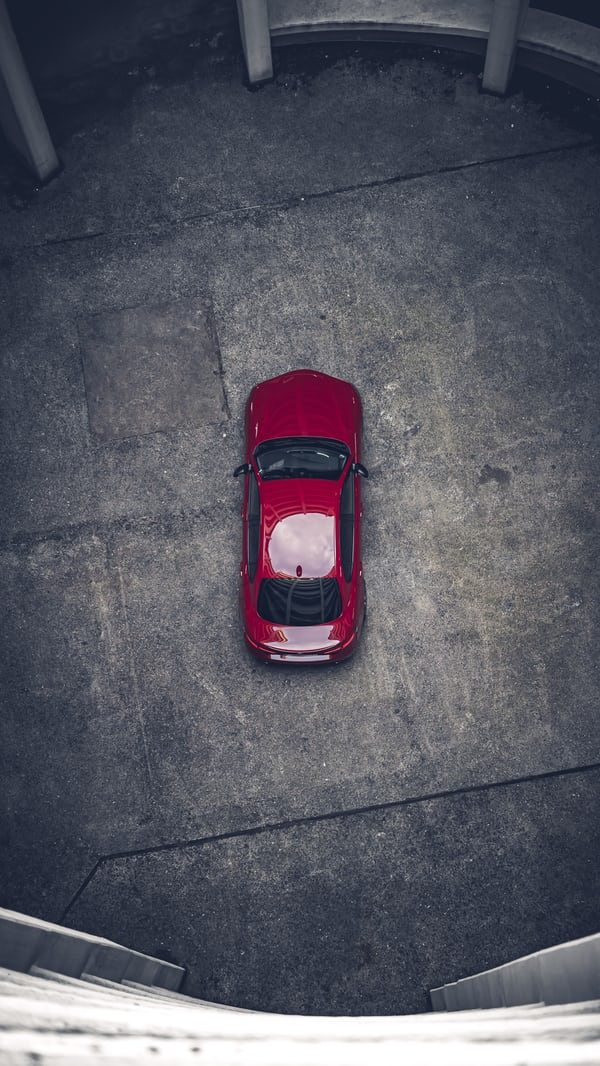car: (217, 364, 389, 676)
